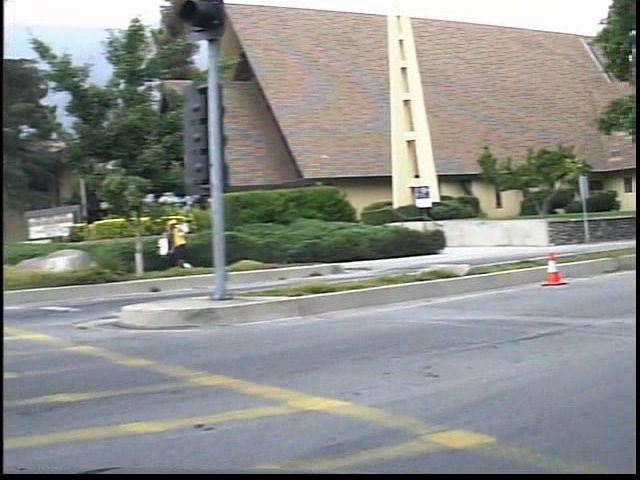person: (177, 214, 213, 274)
